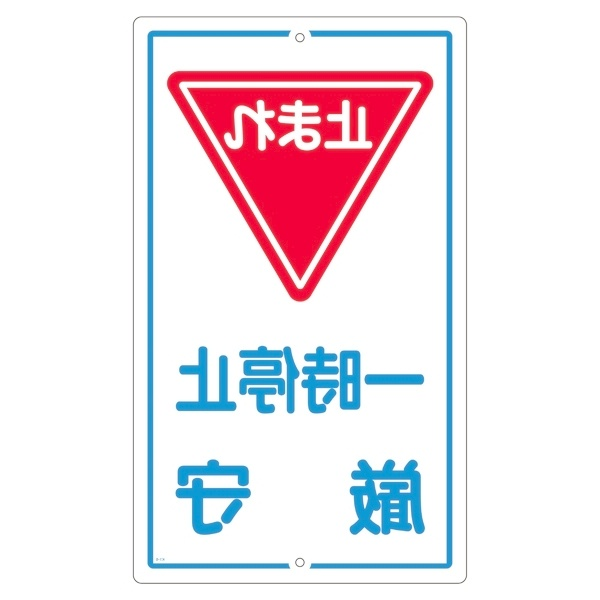Regulatory_sign_triangle: (160, 57, 441, 335)
